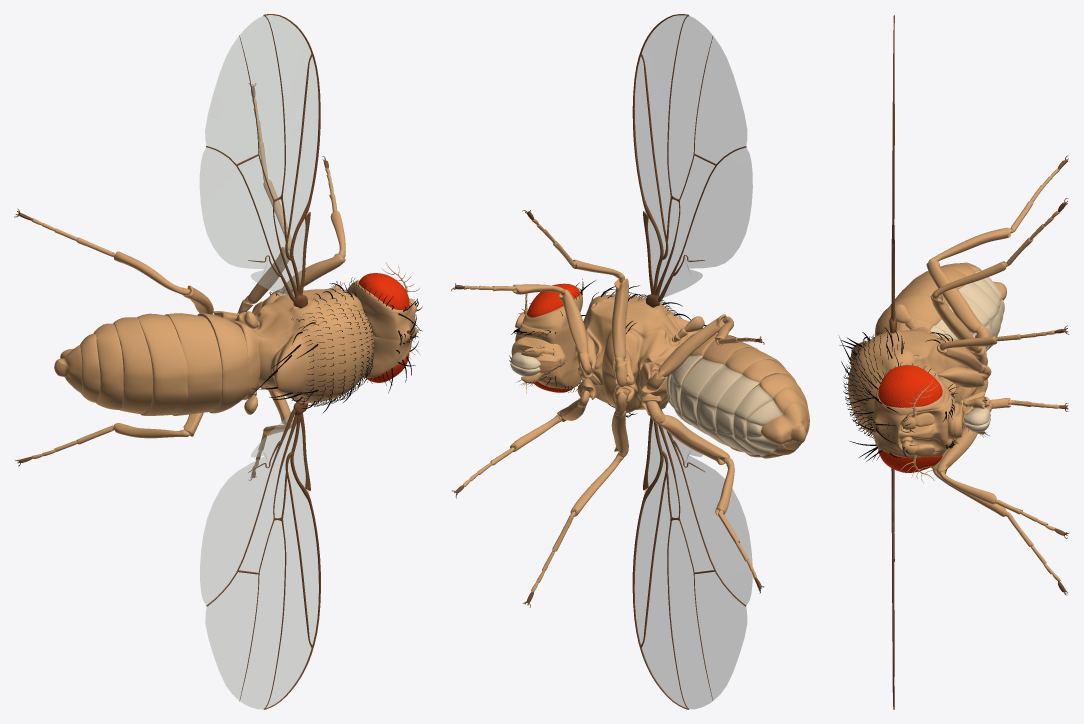
The model's file is flybody.glb.
3 renders of one model, left to right at view 1: azimuth 30°, elevation 25°; view 2: azimuth 150°, elevation 25°; view 3: azimuth 270°, elevation 25°, orthographic.
Parts seen in each view (by area): view 1: walker/wing_left_membrane, walker/wing_right_membrane, walker/thorax, walker/abdomen_3, walker/wing_right_brown, walker/wing_left_brown, walker/abdomen_4, walker/head, walker/abdomen_5, walker/abdomen_2, walker/abdomen_6, walker/thorax_black (+8 smaller); view 2: walker/wing_left_membrane, walker/wing_right_membrane, walker/thorax, walker/wing_left_brown, walker/wing_right_brown, walker/head, walker/abdomen_4_lower, walker/abdomen_5_lower, walker/abdomen_8, walker/femur_T3_right, walker/femur_T2_left, walker/femur_T3_left (+14 smaller); view 3: walker/thorax, walker/head, walker/head_red, walker/femur_T3_left, walker/thorax_black, walker/abdomen_2, walker/wing_left_brown, walker/femur_T2_left, walker/abdomen_4_lower, walker/femur_T1_right, walker/tibia_T3_left, walker/wing_right_brown (+14 smaller).
Boxes of the visible parts, box(x1,y1,x2,y2) form: walker/wing_left_membrane: box(199, 15, 318, 298); walker/wing_right_membrane: box(200, 414, 318, 709); walker/thorax: box(236, 287, 373, 403); walker/abdomen_3: box(165, 313, 222, 415); walker/wing_right_brown: box(206, 402, 320, 709); walker/wing_left_brown: box(206, 14, 320, 308); walker/abdomen_4: box(137, 313, 188, 415); walker/head: box(346, 280, 415, 377); walker/abdomen_5: box(113, 317, 152, 414); walker/abdomen_2: box(197, 313, 248, 413); walker/abdomen_6: box(93, 323, 123, 409); walker/thorax_black: box(249, 283, 373, 413); walker/wing_left_membrane: box(634, 15, 752, 297); walker/wing_right_membrane: box(634, 421, 752, 709); walker/thorax: box(575, 294, 700, 412); walker/wing_left_brown: box(632, 14, 746, 307); walker/wing_right_brown: box(632, 410, 746, 709); walker/head: box(515, 294, 582, 388); walker/abdomen_4_lower: box(696, 365, 742, 448); walker/abdomen_5_lower: box(715, 374, 759, 455); walker/abdomen_8: box(761, 403, 808, 449); walker/femur_T3_right: box(646, 401, 730, 464); walker/femur_T2_left: box(612, 278, 628, 387); walker/femur_T3_left: box(646, 314, 726, 390); walker/thorax: box(848, 327, 972, 435); walker/head: box(872, 374, 952, 457); walker/head_red: box(878, 365, 942, 472); walker/femur_T3_left: box(926, 259, 989, 348); walker/thorax_black: box(838, 327, 952, 438); walker/abdomen_2: box(875, 294, 947, 336); walker/wing_left_brown: box(889, 15, 896, 333); walker/femur_T2_left: box(930, 294, 987, 365); walker/abdomen_4_lower: box(958, 282, 1000, 349); walker/femur_T1_right: box(936, 396, 992, 474); walker/tibia_T3_left: box(928, 227, 1011, 261); walker/wing_right_brown: box(891, 468, 894, 709).
Bounding box in the file's own units: 0.3012 × 0.6118 × 0.1856.
